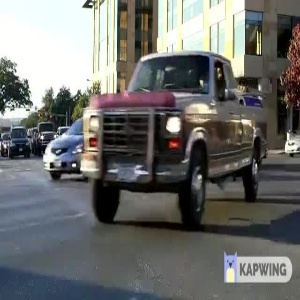truck: (75, 45, 271, 240)
van: (7, 120, 31, 159)
